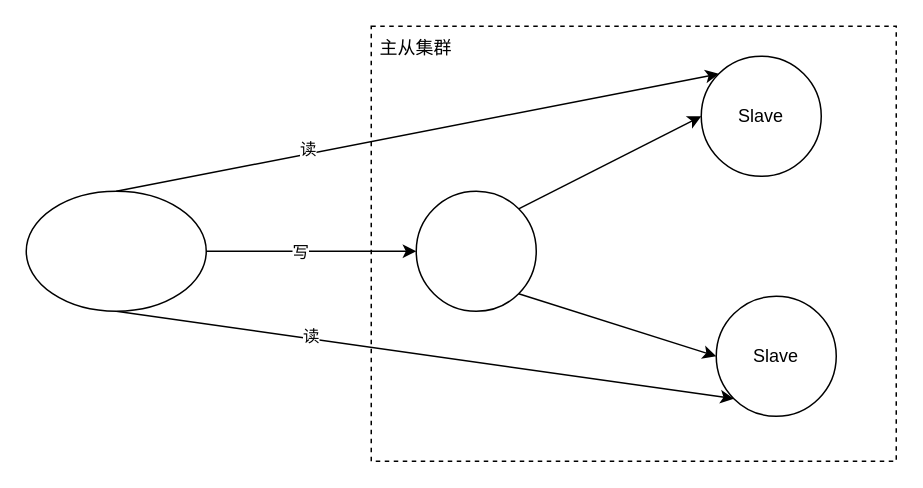
Image size: 923x488. Some labels were removed from this diagram. The centre of each missing label's shape, as x and y in pixels:
Master: the point at 475,250
客户端: the point at 115,250
